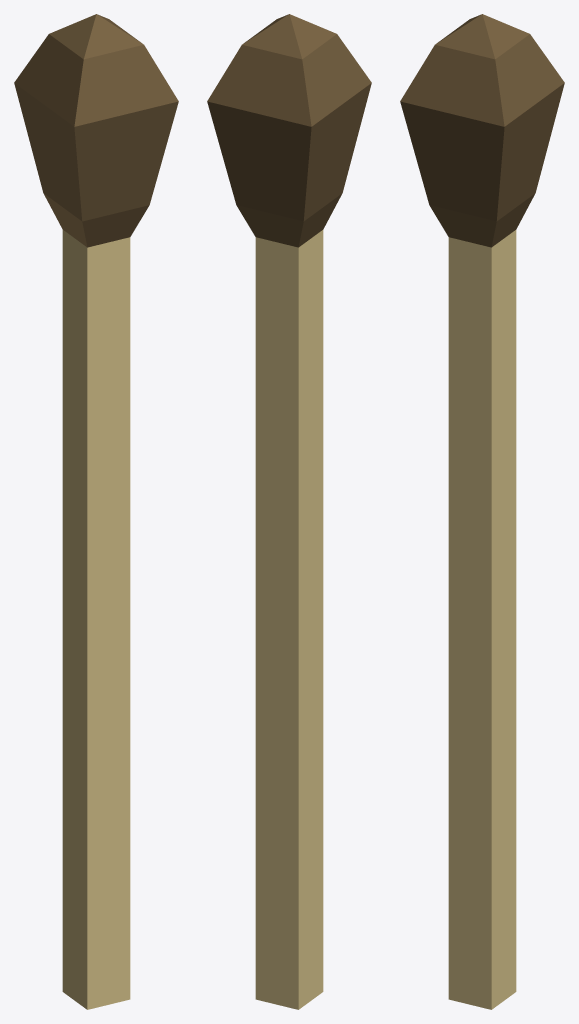
Rendered from match.glb.
The picture shows the model from 3 angles, left to right: view 1: azimuth 30°, elevation 25°; view 2: azimuth 150°, elevation 25°; view 3: azimuth 330°, elevation 25°; orthographic projection.
Visible parts, largest first — view 1: Cube; view 2: Cube; view 3: Cube.
Part boxes in pixels (x1,y1,x2,y2): Cube: (14,14,178,1009); Cube: (207,14,371,1009); Cube: (400,14,564,1009).
Size of the model in its own units: 0.4371 by 3.92 by 0.4371.
